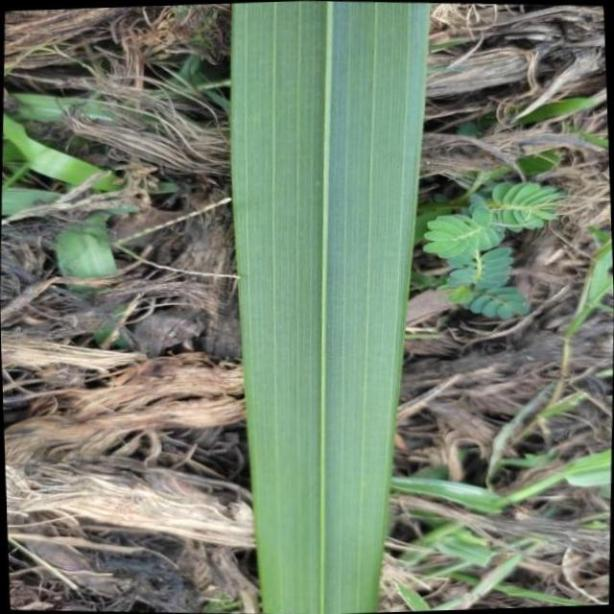Healthy: (226, 0, 428, 614)
